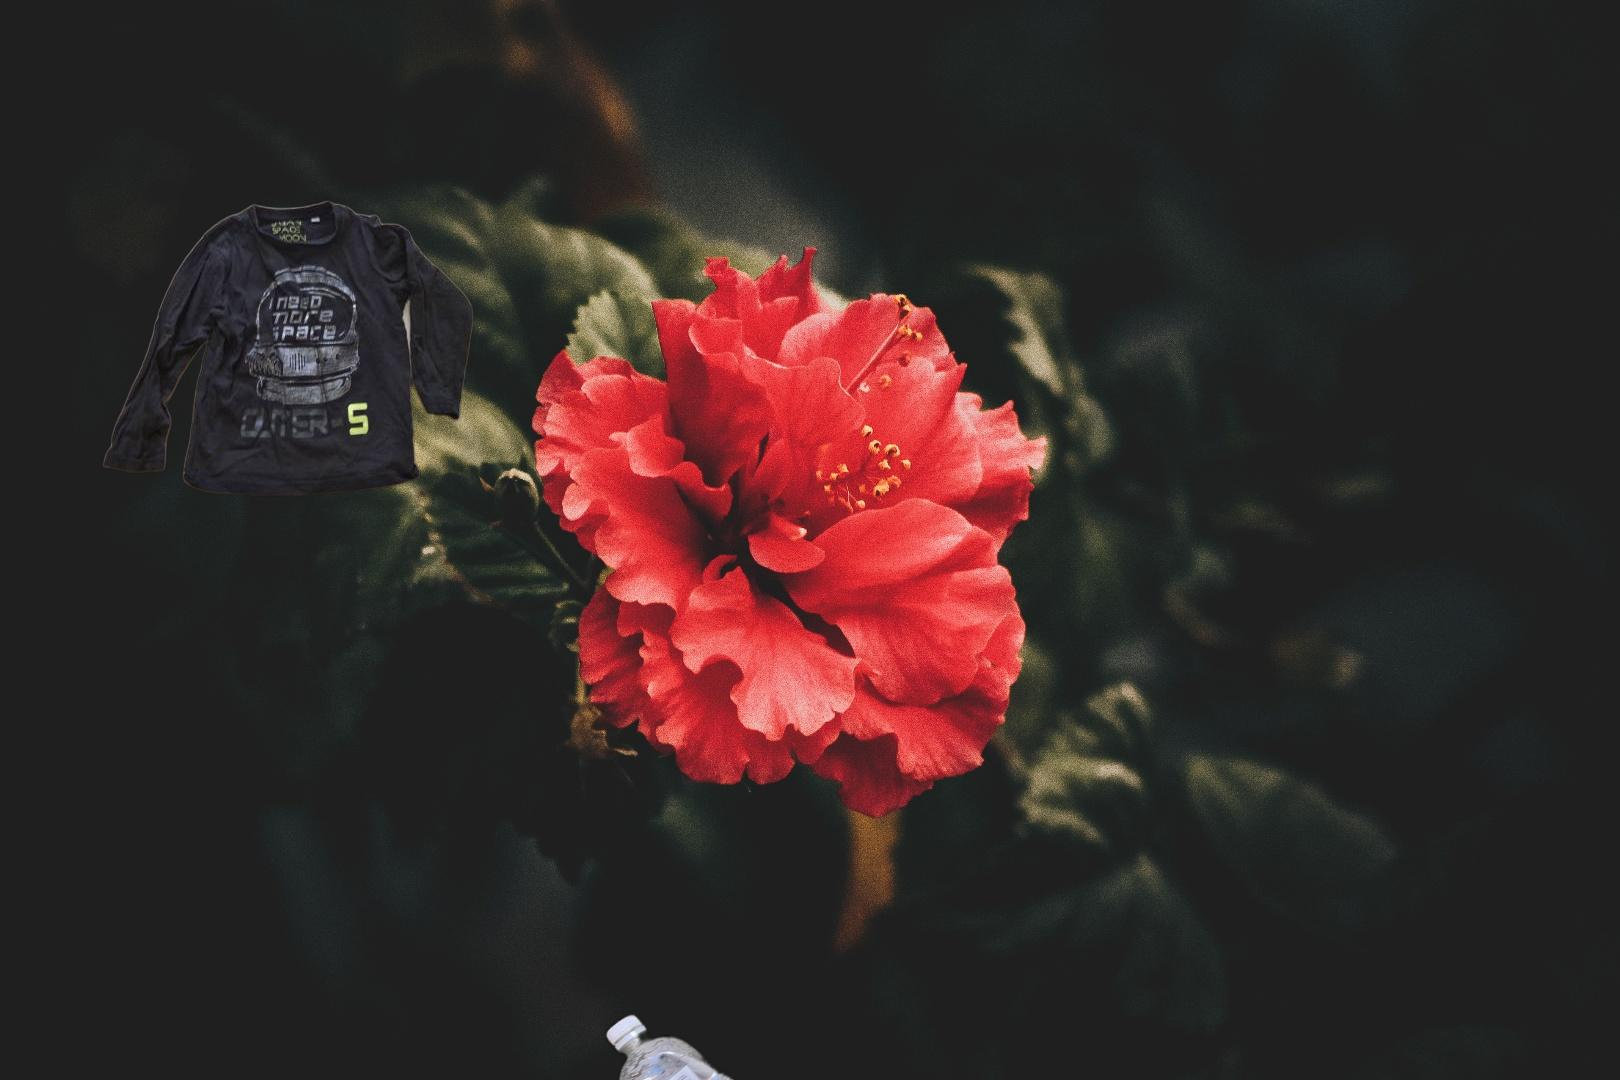clothes: (100, 195, 475, 501)
plastic-bottles: (601, 1008, 791, 1080)
